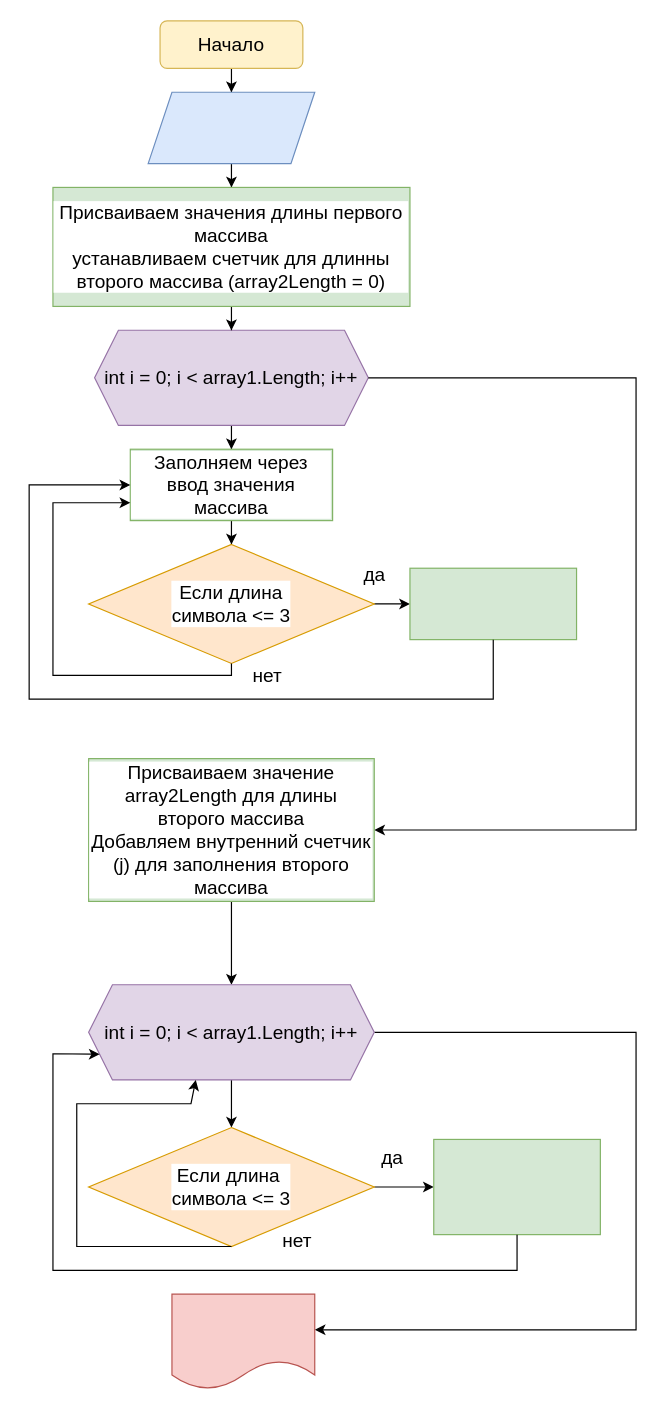
The diagram is 666 pixels wide and 1410 high, and some of its shapes have lost their labels. Here are the shapes that lost their labels. From the top down, the centre of each, then its label:
At pixel 231 127: "Ввод длины массива и его элементов".
At pixel 493 603: "Увеличиваем счетчик на 1 (array2Length++)".
At pixel 516 1186: "Вносим значение в новый массив. Увеличиваем счетчик на 1 (j++)".
At pixel 243 1341: "Выводим первый массив и второй".
